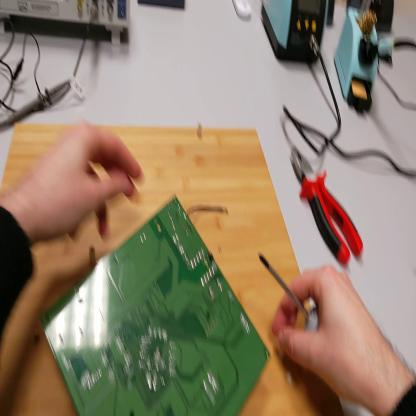hand: (272, 264, 386, 404), (23, 123, 143, 243)
low voltage board: (42, 197, 273, 415)
oscilloscope: (1, 3, 133, 46)
oscilloscope probe tip: (2, 81, 75, 130)
pliers: (290, 147, 366, 264)
screwdriver-: (258, 254, 320, 337)
socket: (349, 3, 396, 36), (329, 3, 336, 29)
welder base: (335, 3, 381, 117)
welder probe tip: (367, 42, 398, 65)
welder station: (261, 1, 330, 67)
working area: (3, 122, 347, 414)
